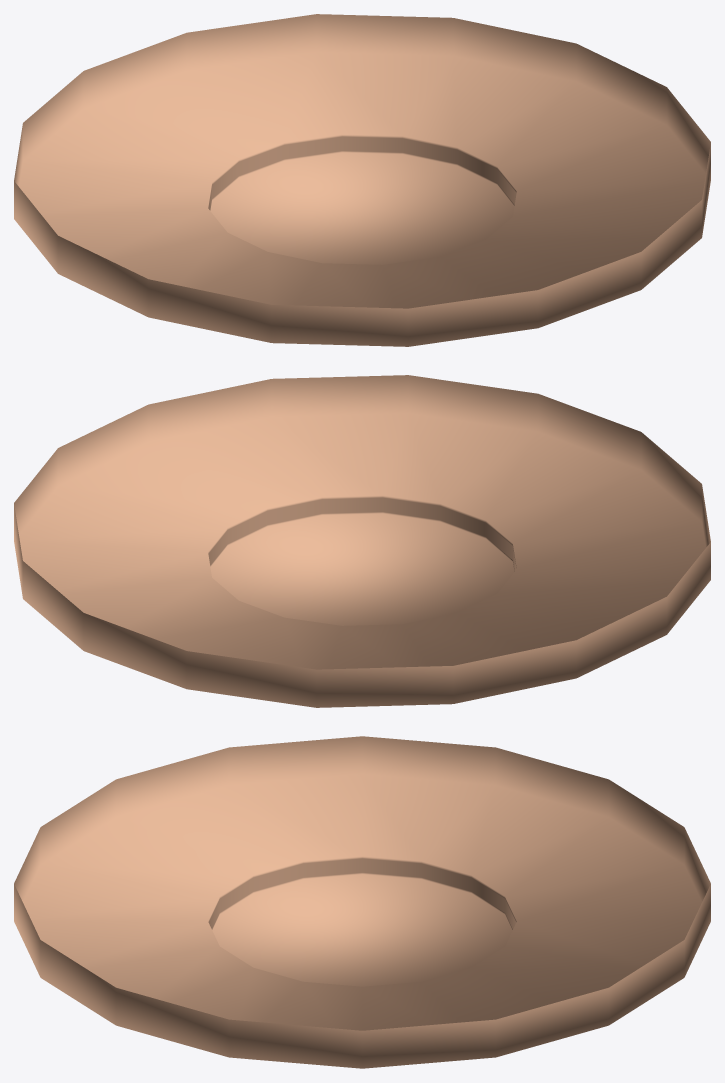
The model's file is Ground.glb.
3 renders of one model, top to bottom at view 1: azimuth 30°, elevation 25°; view 2: azimuth 150°, elevation 25°; view 3: azimuth 270°, elevation 25°, orthographic.
Visible parts, largest first — view 1: Ground; view 2: Ground; view 3: Ground.
Boxes of the visible parts, x1=… form: Ground: x1=14, y1=14, x2=710, y2=346; Ground: x1=14, y1=375, x2=710, y2=707; Ground: x1=14, y1=736, x2=710, y2=1068.
Size of the model in its own units: 40.58 by 3.61 by 40.58.
